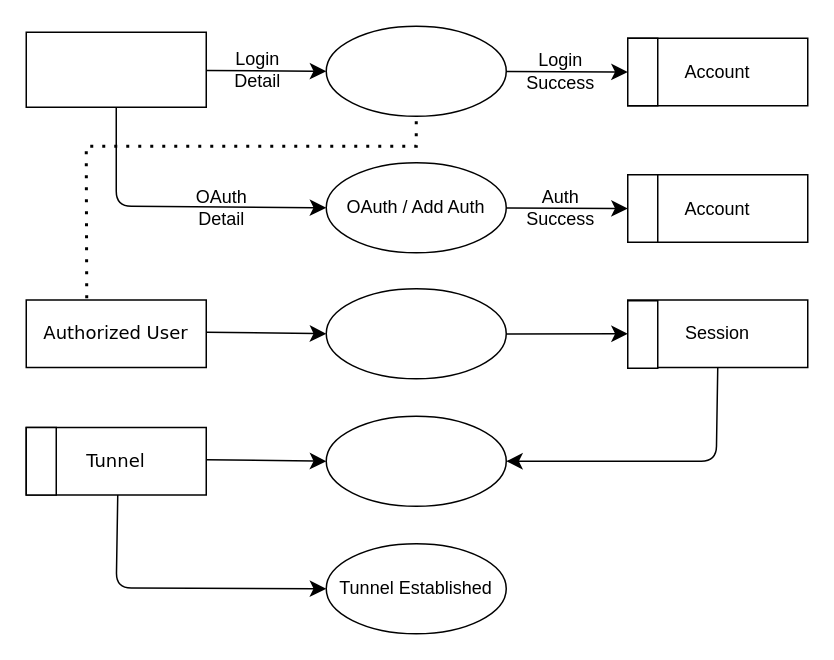
This 834x660 diagram has some shape labels left out. The shapes that lost their labels are listed below. From the top down, each one's centre as x and y in pixels, then its label:
(x=115, y=69): User
(x=415, y=70): Register
(x=415, y=333): Authorize
(x=415, y=460): Init / Auth Tunnel
